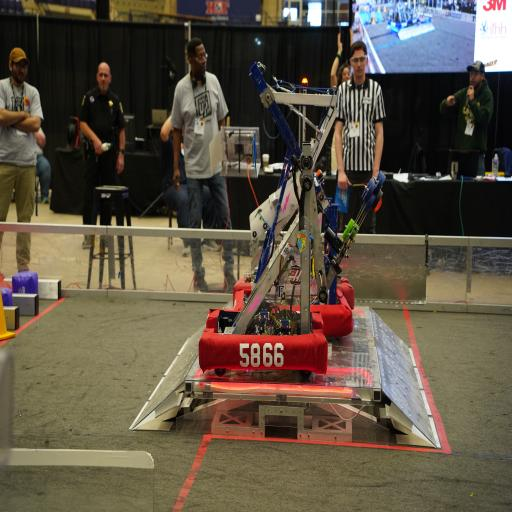robot: (203, 177, 326, 366)
